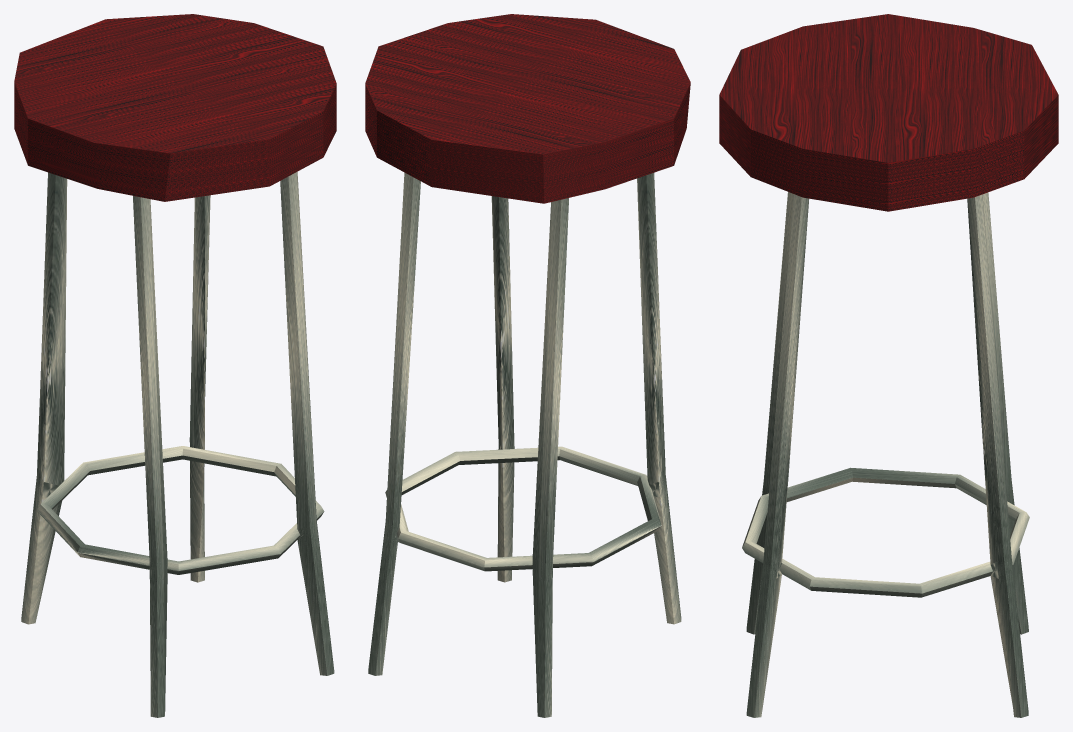
The model's file is Woodenstool.fbx.
3 views of the same model, side by side, from view 1: azimuth 30°, elevation 25°; view 2: azimuth 150°, elevation 25°; view 3: azimuth 270°, elevation 25° (orthographic). The views are drawn at different scales.
Parts seen in each view (by area): view 1: stool; view 2: stool; view 3: stool.
Part boxes in pixels (x1,y1,x2,y2): stool: [14, 14, 336, 717]; stool: [365, 14, 690, 717]; stool: [719, 14, 1058, 717].
Size of the model in its own units: 1.54 by 2.83 by 1.49.
